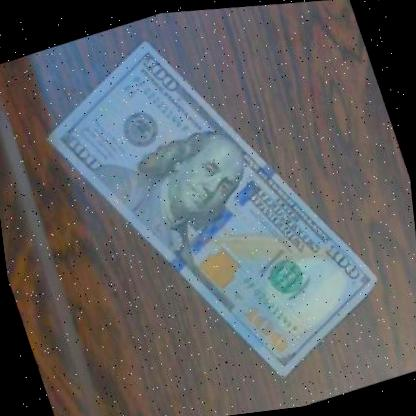one_hundred-front: (10, 0, 415, 416)
